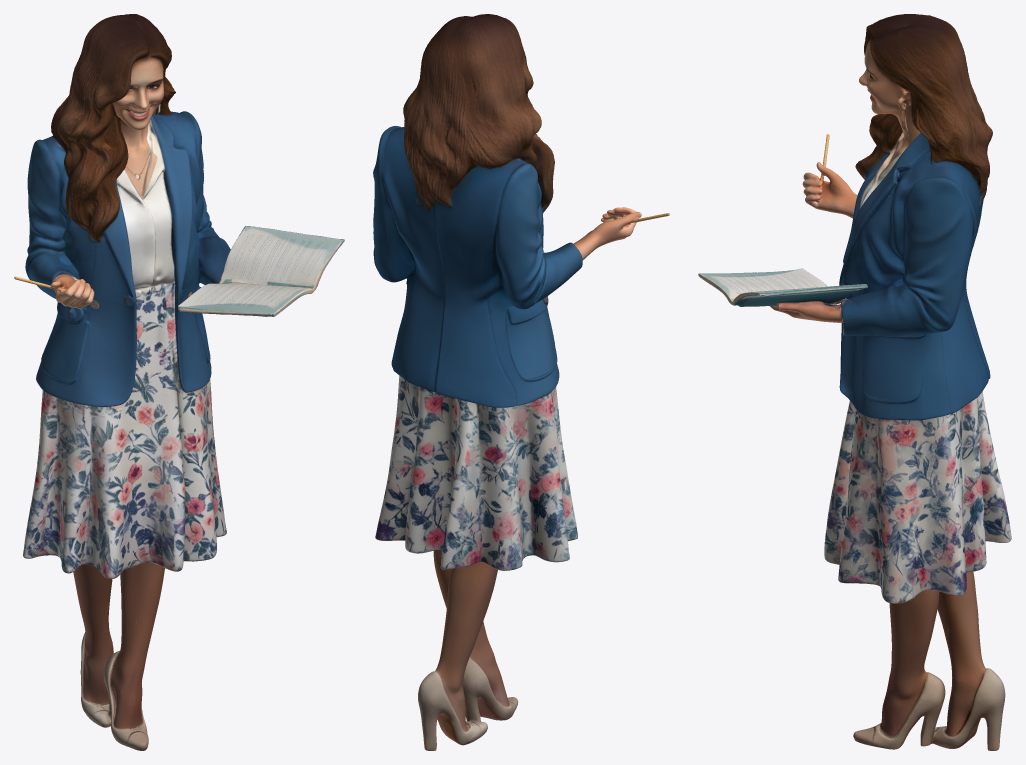
Rendered from teacher.glb.
The picture shows the model from 3 angles, left to right: view 1: azimuth 30°, elevation 25°; view 2: azimuth 150°, elevation 25°; view 3: azimuth 270°, elevation 25°; orthographic projection. The views are drawn at different scales.
Bounding box in the file's own units: 0.8356 × 1.9 × 0.7405.
1 material, 1 textured.
